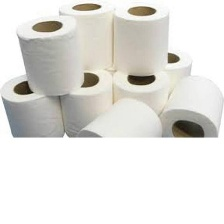tissue: (14, 11, 88, 97), (110, 0, 172, 78), (155, 73, 224, 137), (55, 0, 114, 74), (0, 71, 65, 137), (57, 66, 113, 137), (73, 94, 163, 137), (110, 64, 167, 117), (149, 45, 194, 81)
